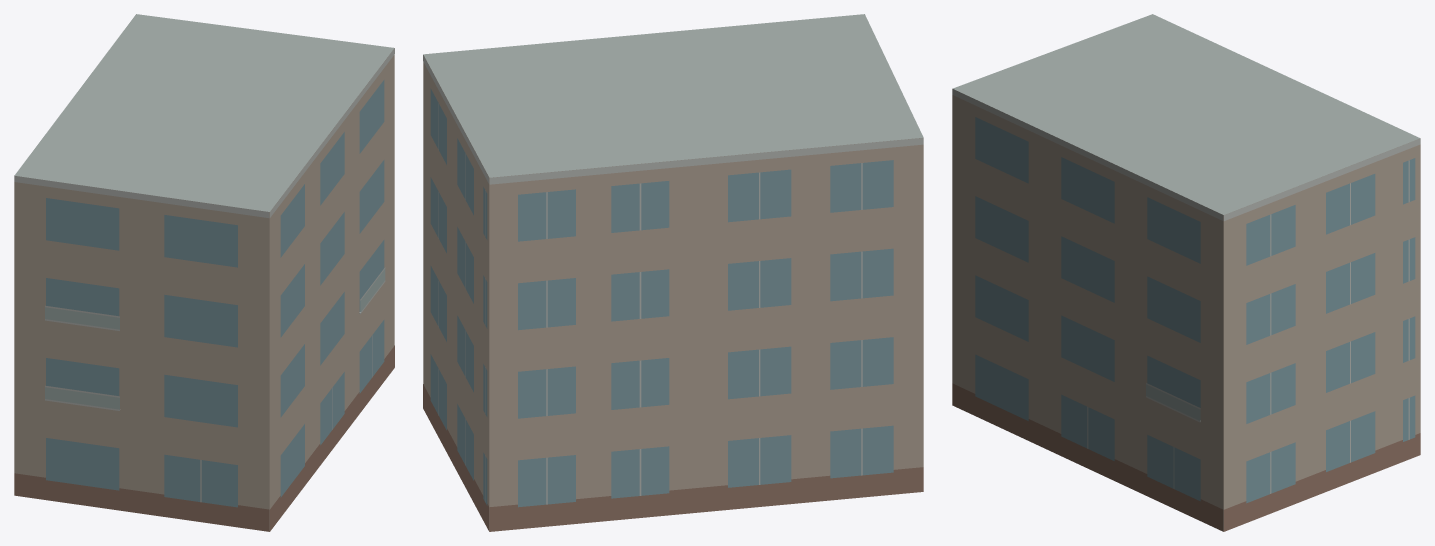
File: survey-upis-33001443.glb
The picture shows the model from 3 angles, left to right: view 1: azimuth 30°, elevation 25°; view 2: azimuth 150°, elevation 25°; view 3: azimuth 270°, elevation 25°; orthographic projection. The views are drawn at different scales.
Parts seen in each view (by area): view 1: survey-upis-33001443.tmp; view 2: survey-upis-33001443.tmp; view 3: survey-upis-33001443.tmp.
Boxes of the visible parts, bbox=[...] form: survey-upis-33001443.tmp: bbox=[14, 14, 394, 531]; survey-upis-33001443.tmp: bbox=[423, 14, 923, 531]; survey-upis-33001443.tmp: bbox=[952, 14, 1420, 531].
Bounding box in the file's own units: 17.03 × 12.5 × 16.75.
